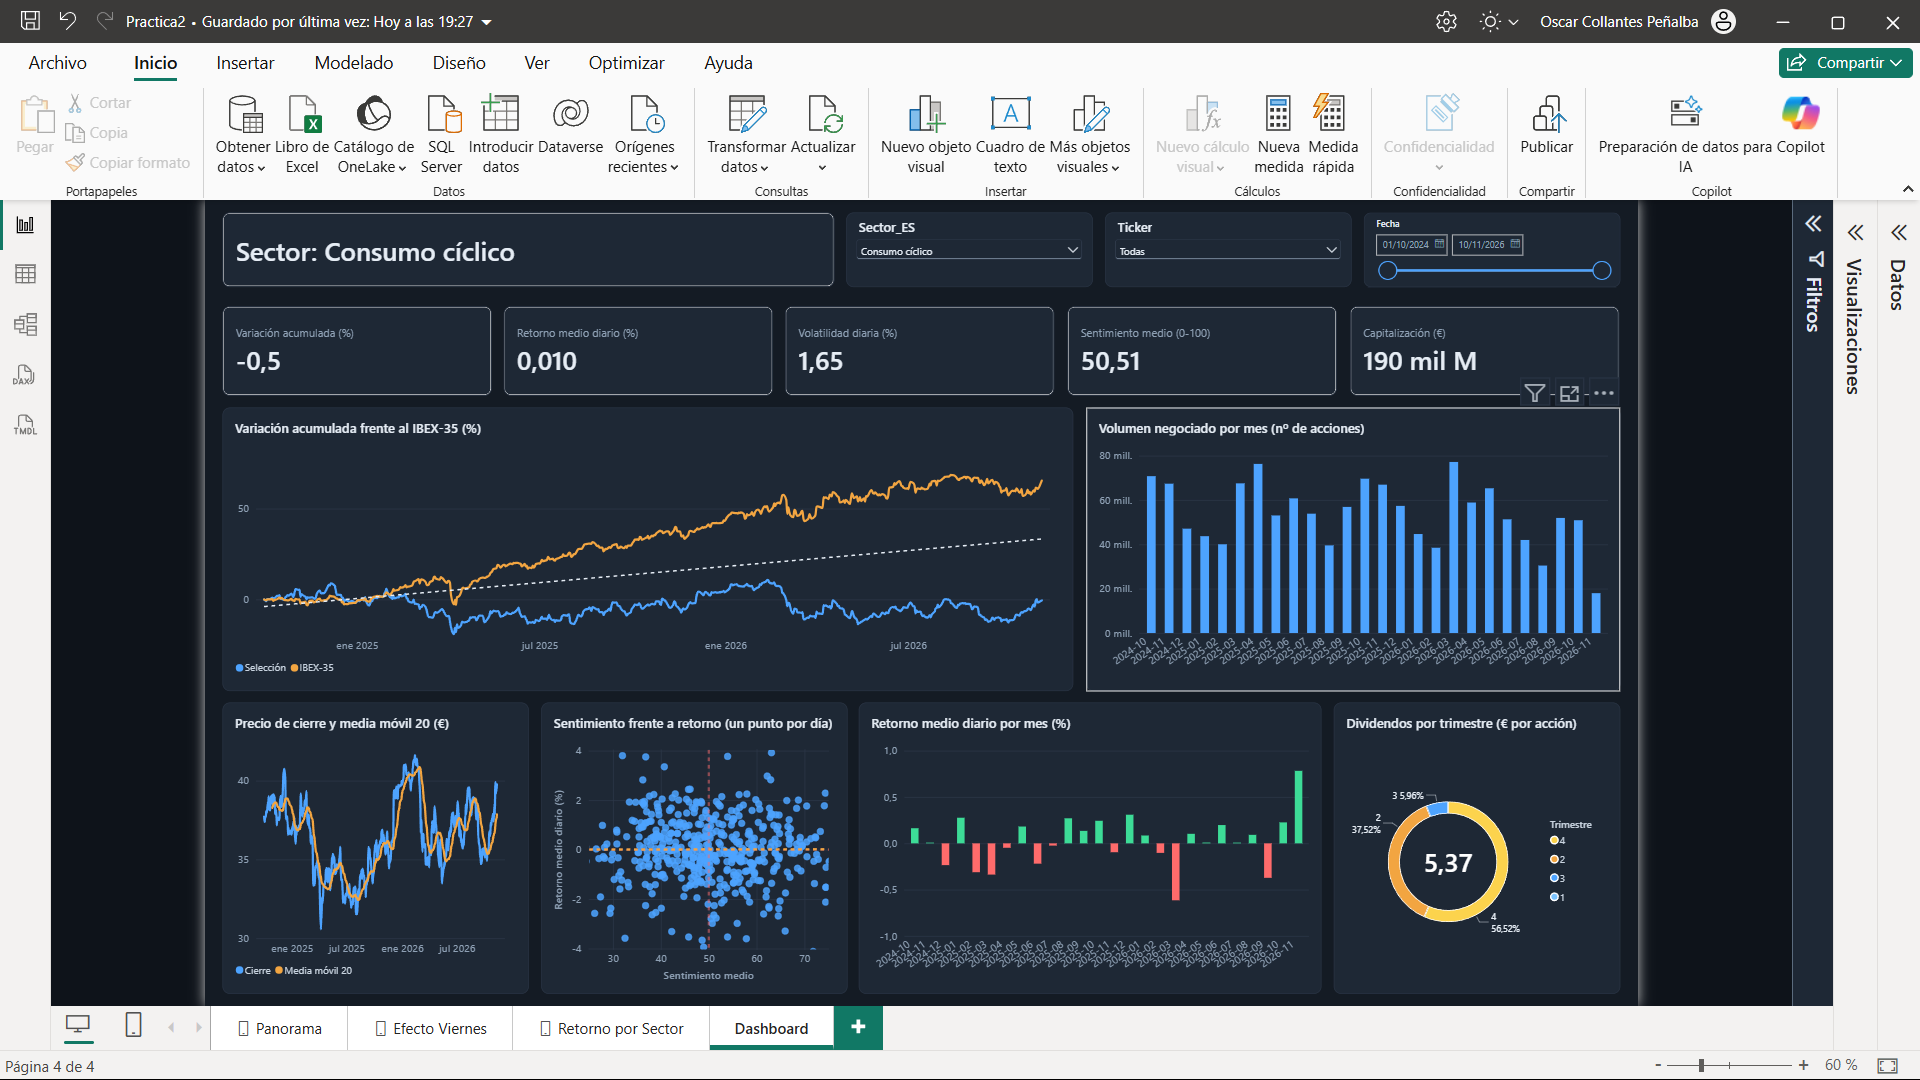

The dashboard page shown, as its layout file describes it:
{"tool":"powerbi","page":{"name":"Dashboard","canvas":[1920,1080],"ordinal":3},"visuals":[{"type":"slicer","fields":{"Values":["Empresa.Sector_ES"]},"box":[753.5,31.4,280.8,68],"z":0},{"type":"slicer","fields":{"Values":["Empresa.Ticker"]},"box":[1055.2,26.2,280.8,80.2],"z":1000},{"type":"slicer","fields":{"Values":["Fecha.Fecha"]},"box":[1360.5,19.2,280.8,95.9],"z":2000},{"type":"cardVisual","fields":{"Data":["Hechos.Variacion Acumulada"]},"box":[36.6,115.1,218,174.4],"z":3000},{"type":"cardVisual","fields":{"Data":["Hechos.Retorno Medio Diario"]},"box":[375,115.1,218,174.4],"z":4000},{"type":"cardVisual","fields":{"Data":["Hechos.Volatilidad Diaria"]},"box":[741.3,115.1,218,174.4],"z":5000},{"type":"cardVisual","fields":{"Data":["Hechos.Sentimiento Medio"]},"box":[1088.4,115.1,218,174.4],"z":6000},{"type":"cardVisual","fields":{"Data":["Hechos.Capitalizacion Total"]},"box":[1447.7,115.1,218,174.4],"z":7000},{"type":"lineChart","fields":{"Category":["Fecha.Fecha"],"Y":["Hechos.Var Acum Seleccion","Hechos.Var Acum IBEX"]},"box":[43.6,314,1058.7,376.7],"z":8000},{"type":"clusteredColumnChart","fields":{"Category":["Fecha.AnioMes"],"Y":["Sum(Hechos.Volume)"]},"box":[1133.7,314,736,376.7],"z":9000},{"type":"lineChart","fields":{"Category":["Fecha.Fecha"],"Y":["Avg(Hechos.Close)","Avg(Hechos.Media_Movil_20)"]},"box":[66.3,711.6,395.9,322.7],"z":10000},{"type":"scatterChart","fields":{"Category":["Fecha.Fecha"],"X":["Hechos.Sentimiento Medio"],"Y":["Hechos.Retorno Medio Diario"]},"box":[462.2,711.6,444.8,322.7],"z":11000},{"type":"clusteredColumnChart","fields":{"Category":["Fecha.AnioMes"],"Y":["Hechos.Retorno Medio Diario"]},"box":[907,711.6,610.5,322.7],"z":12000},{"type":"donutChart","fields":{"Category":["Fecha.Trimestre"],"Y":["Sum(Hechos.Dividends)"]},"box":[1517.4,711.6,385.5,322.7],"z":13000},{"type":"cardVisual","fields":{"Data":["Hechos.Titulo Dashboard"]},"box":[66.3,19.2,556.4,75],"z":13001}]}

Visuals, with their boxes on the page's 1920x1080 design canvas (x1, y1, x2, y2). These are canvas units, not pixel positions in the 1920x1080 screenshot, which may show the page scaled, cropped or inside an application window:
slicer - Empresa.Sector_ES: [x1=754, y1=31, x2=1034, y2=99]
slicer - Empresa.Ticker: [x1=1055, y1=26, x2=1336, y2=106]
slicer - Fecha.Fecha: [x1=1360, y1=19, x2=1641, y2=115]
cardVisual - Hechos.Variacion Acumulada: [x1=37, y1=115, x2=255, y2=290]
cardVisual - Hechos.Retorno Medio Diario: [x1=375, y1=115, x2=593, y2=290]
cardVisual - Hechos.Volatilidad Diaria: [x1=741, y1=115, x2=959, y2=290]
cardVisual - Hechos.Sentimiento Medio: [x1=1088, y1=115, x2=1306, y2=290]
cardVisual - Hechos.Capitalizacion Total: [x1=1448, y1=115, x2=1666, y2=290]
lineChart - Fecha.Fecha x Hechos.Var Acum Seleccion: [x1=44, y1=314, x2=1102, y2=691]
clusteredColumnChart - Fecha.AnioMes x Sum(Hechos.Volume): [x1=1134, y1=314, x2=1870, y2=691]
lineChart - Fecha.Fecha x Avg(Hechos.Close): [x1=66, y1=712, x2=462, y2=1034]
scatterChart - Fecha.Fecha x Hechos.Sentimiento Medio: [x1=462, y1=712, x2=907, y2=1034]
clusteredColumnChart - Fecha.AnioMes x Hechos.Retorno Medio Diario: [x1=907, y1=712, x2=1518, y2=1034]
donutChart - Fecha.Trimestre x Sum(Hechos.Dividends): [x1=1517, y1=712, x2=1903, y2=1034]
cardVisual - Hechos.Titulo Dashboard: [x1=66, y1=19, x2=623, y2=94]
